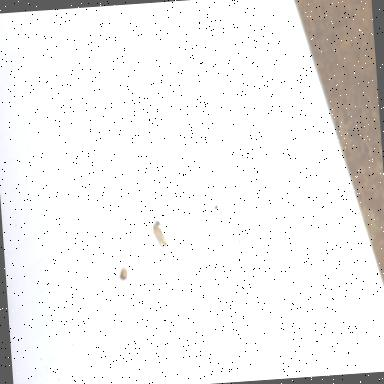pbw: (152, 222, 168, 248)
